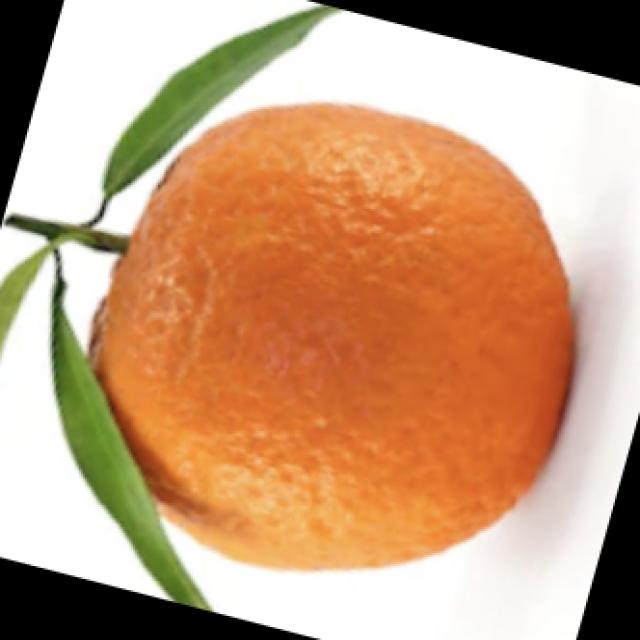fresh: (0, 72, 592, 599)
